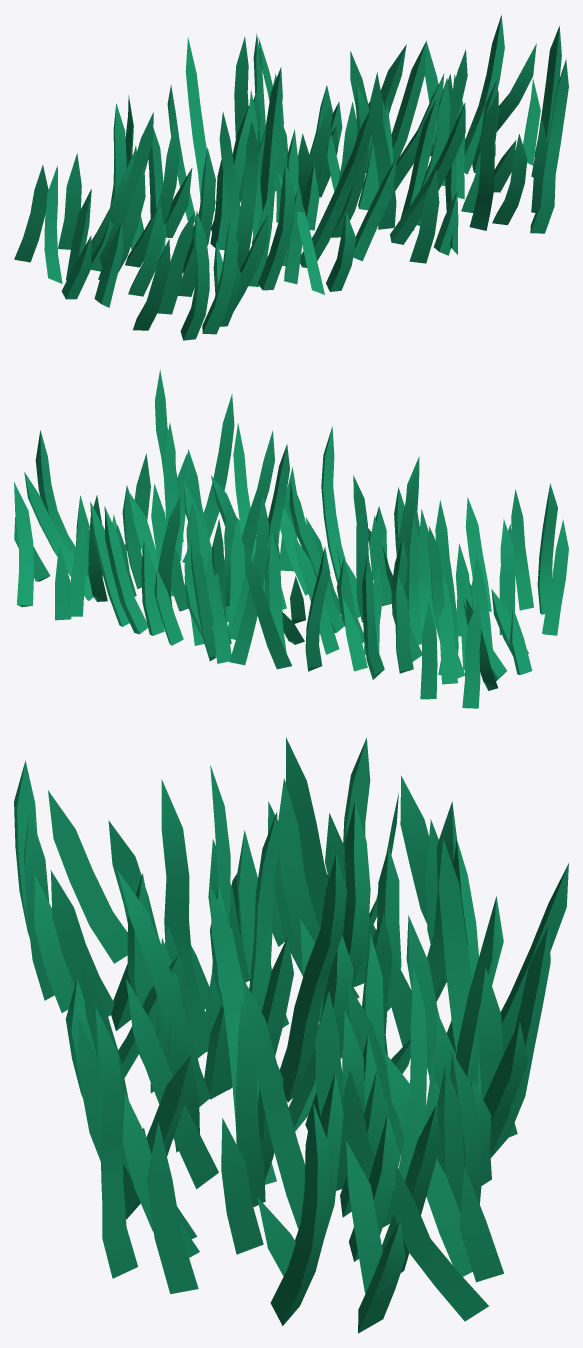
File: coral_seagrass_A_medium.fbx
3 renders of one model, top to bottom at view 1: azimuth 30°, elevation 25°; view 2: azimuth 150°, elevation 25°; view 3: azimuth 270°, elevation 25°, orthographic. The views are drawn at different scales.
Visible parts, largest first — view 1: coral_seagrass_A_medium; view 2: coral_seagrass_A_medium; view 3: coral_seagrass_A_medium.
Part boxes in pixels (x1=…): coral_seagrass_A_medium: x1=14, y1=15, x2=568, y2=340; coral_seagrass_A_medium: x1=14, y1=369, x2=568, y2=708; coral_seagrass_A_medium: x1=14, y1=737, x2=568, y2=1333.
Bounding box in the file's own units: 200 × 66.99 × 115.
